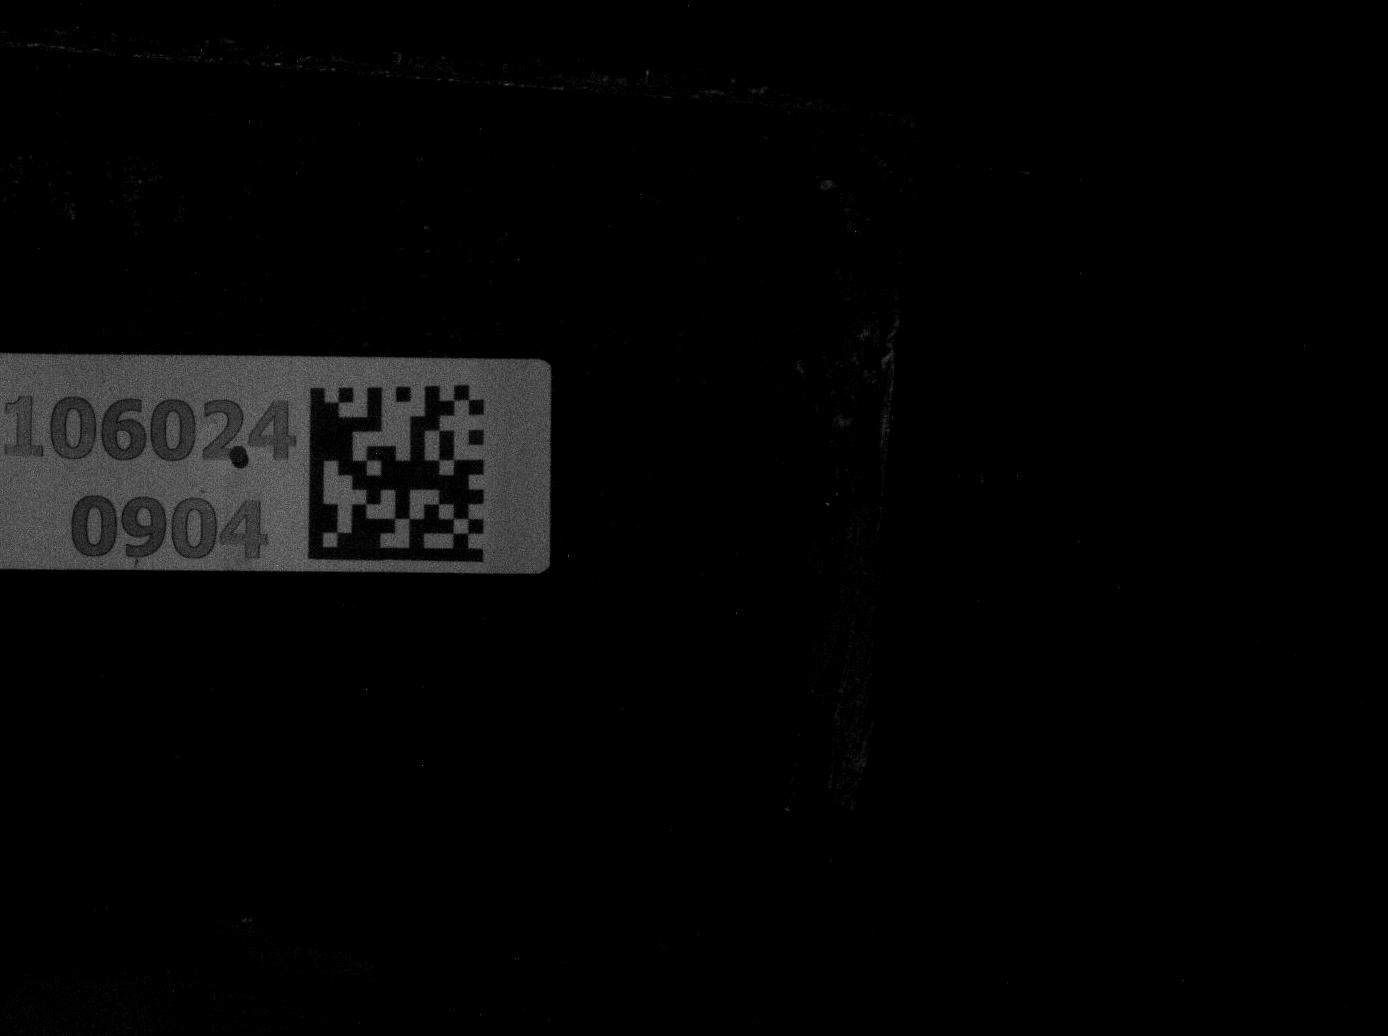data matrix: (301, 375, 499, 572)
